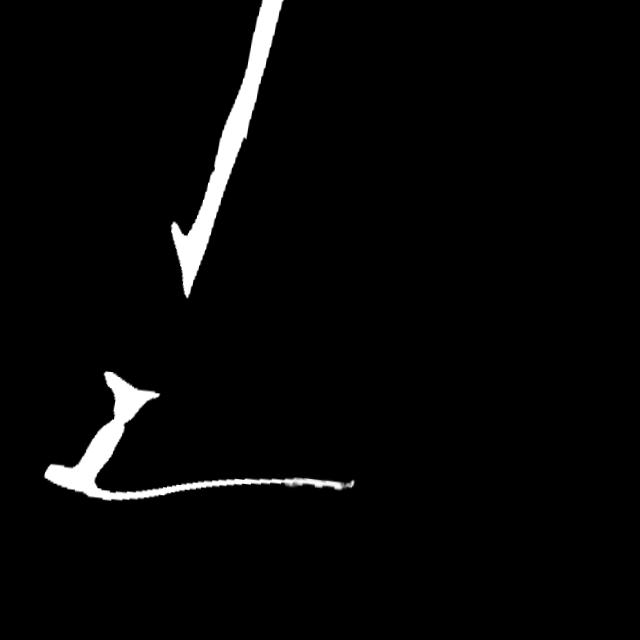stp: (327, 472, 374, 502)
